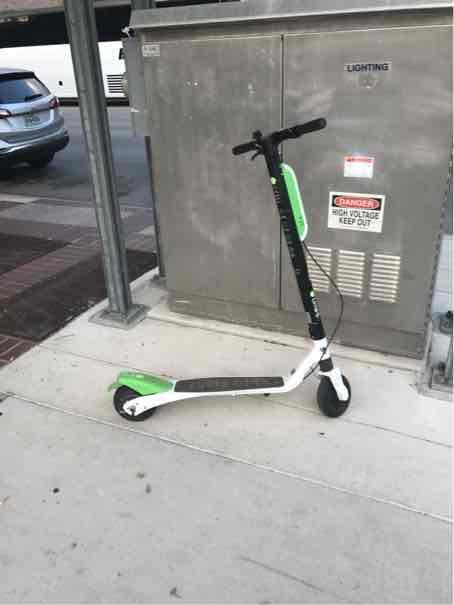scooter: (107, 114, 356, 431)
